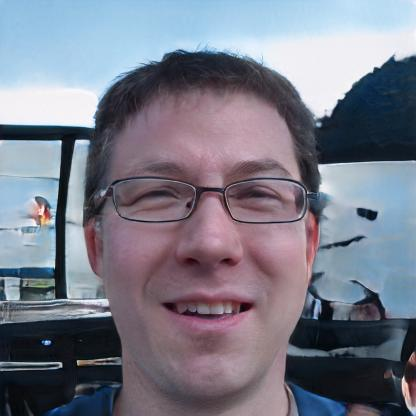glasses: (106, 169, 313, 231)
